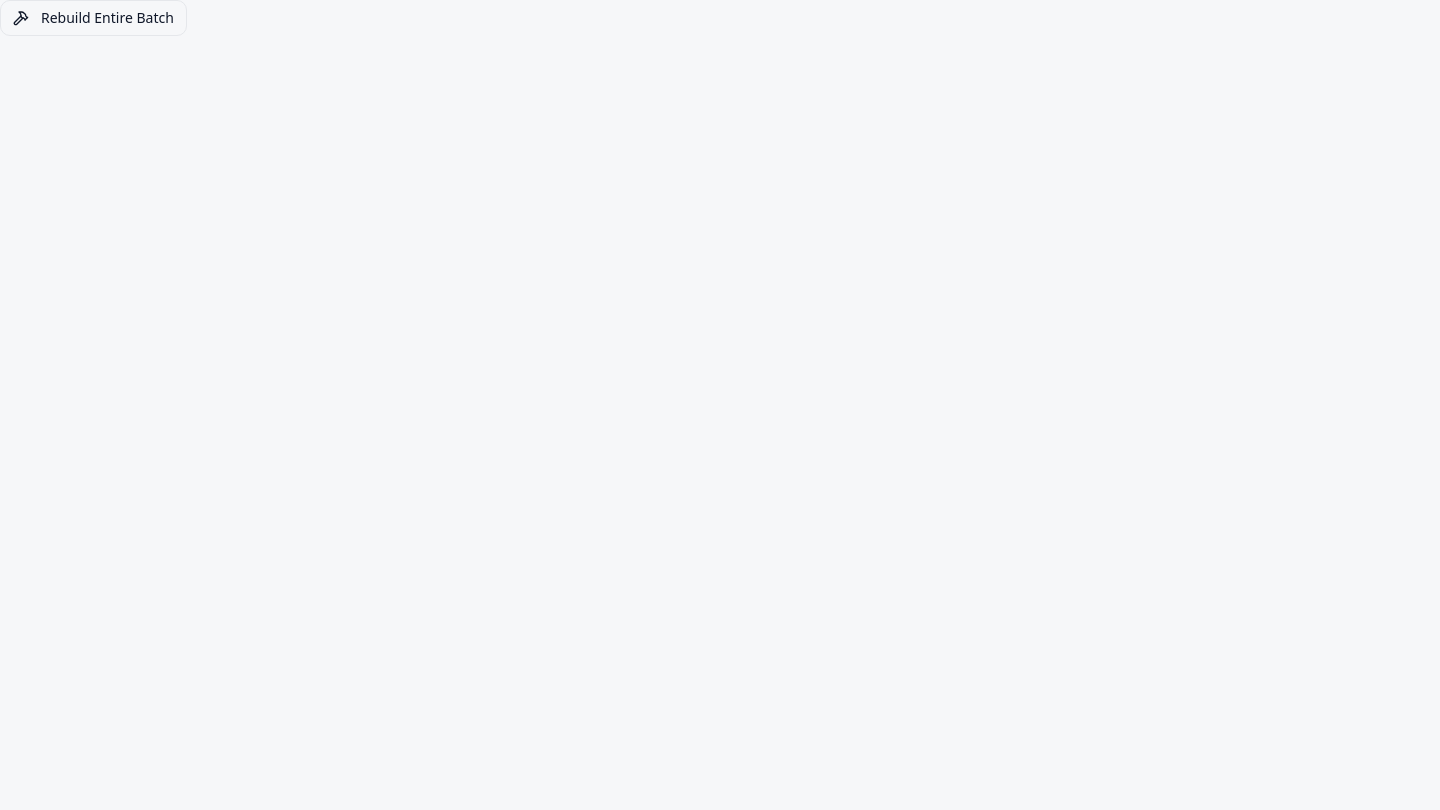
Test: RebuildBatchButton — wrong-batch race › (a) snapshots target batch on dialog open; context flip to Jan does NOT redirect rebuild — still fires against Mar
Later steps or results of the test are not shown.
Click the button "Rebuild Entire Batch" at (93, 18), box [0, 0, 187, 36]
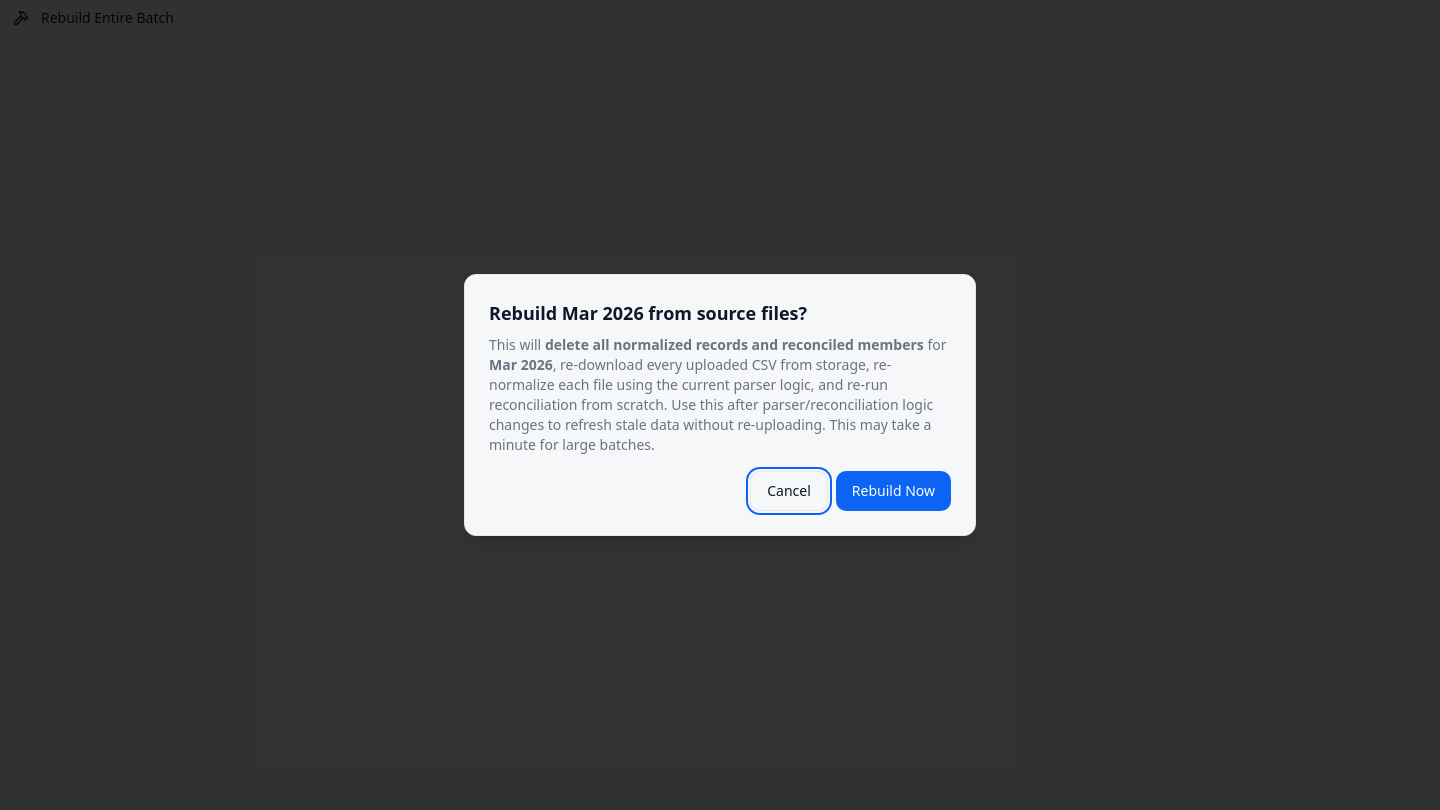
Expected: the dialog is shown, [464, 274, 976, 536]
